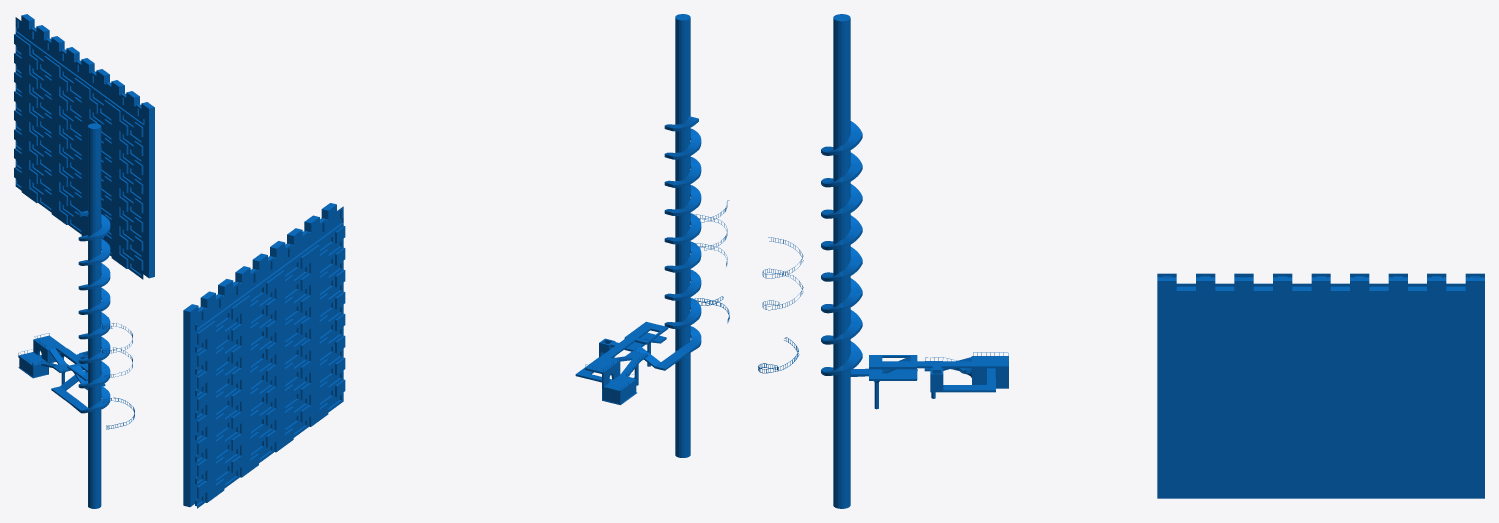
The model's file is Wall_Backdrop_HP.obj.
3 renders of one model, left to right at view 1: azimuth 30°, elevation 25°; view 2: azimuth 150°, elevation 25°; view 3: azimuth 270°, elevation 25°, orthographic. The views are drawn at different scales.
Parts seen in each view (by area): view 1: Cube.001, LevelBase, Cube.002, Spiral_Rails_Upper, Spiral_Rails_Lower; view 2: Cube.001, LevelBase, Cube.002; view 3: Cube.002, LevelBase, Cube.001.
Boxes of the visible parts, x1,y1,x2,y2 form: Cube.001: (14, 17, 144, 279); LevelBase: (18, 123, 110, 508); Cube.002: (21, 14, 154, 278); Spiral_Rails_Upper: (102, 323, 132, 378); Spiral_Rails_Lower: (103, 397, 134, 429); Cube.001: (195, 206, 345, 508); LevelBase: (575, 14, 701, 457); Cube.002: (183, 203, 336, 507); Cube.002: (1157, 277, 1484, 498); LevelBase: (821, 14, 1008, 508); Cube.001: (1157, 273, 1484, 287).
Size of the model in its own units: 134 by 246 by 333.
